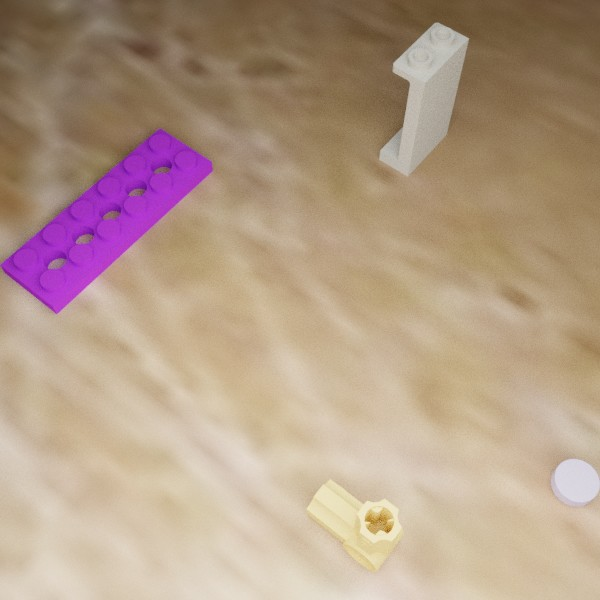lego: (0, 128, 213, 314), (379, 22, 469, 176), (306, 479, 404, 572), (550, 458, 600, 506)
